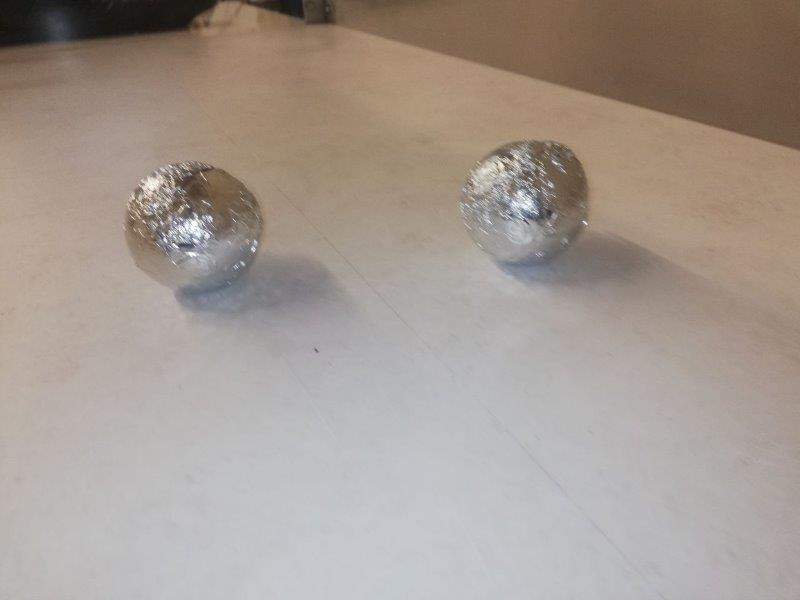bianca: (124, 160, 261, 292), (456, 137, 591, 266)
